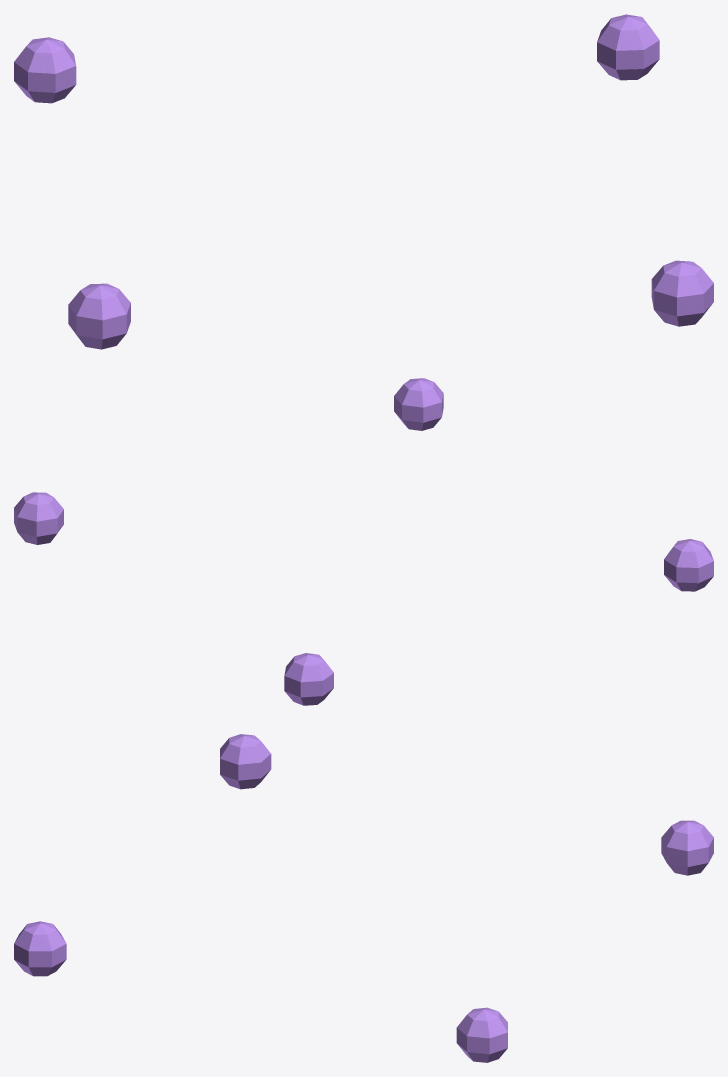
Rendered from BILLIE_06.glb.
3 views of the same model, one above another, from view 1: azimuth 30°, elevation 25°; view 2: azimuth 150°, elevation 25°; view 3: azimuth 270°, elevation 25° (orthographic). The views are drawn at different scales.
Parts seen in each view (by area): view 1: BILLLIE_06; view 2: BILLLIE_06; view 3: BILLLIE_06.
Part boxes in pixels (<box>): BILLLIE_06: <box>14,14,713,349</box>; BILLLIE_06: <box>14,378,713,705</box>; BILLLIE_06: <box>14,734,713,1062</box>.
Size of the model in its own units: 0.1301 by 0.0105 by 0.1301.
1 material, 1 textured.
